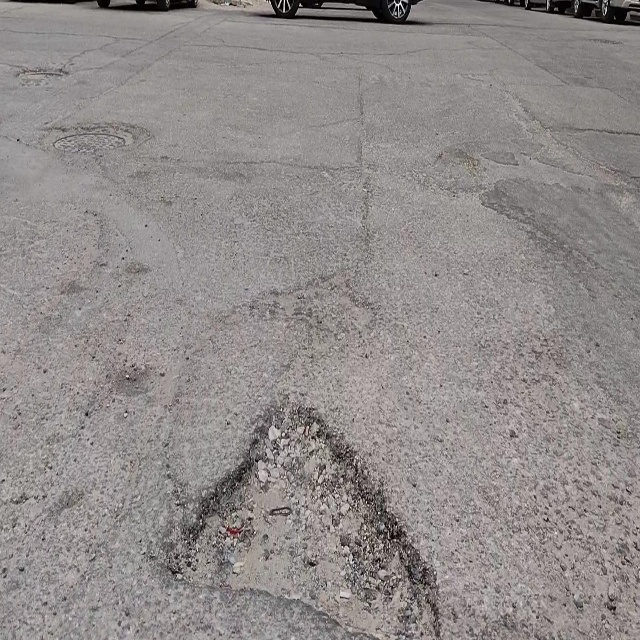pothole: (174, 404, 437, 638)
